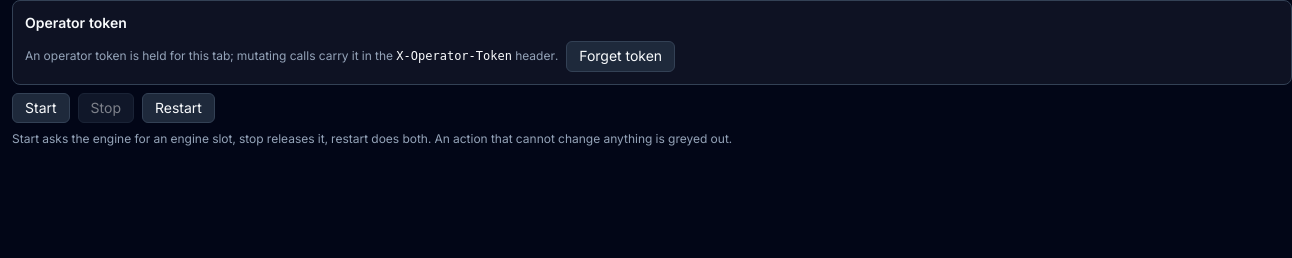
ProfileControls › surfaces a wrong token in the banner
The width and height of the screenshot is (1292, 258).
Click the button "Restart". click: (178, 108)
box: [142,93,215,123]
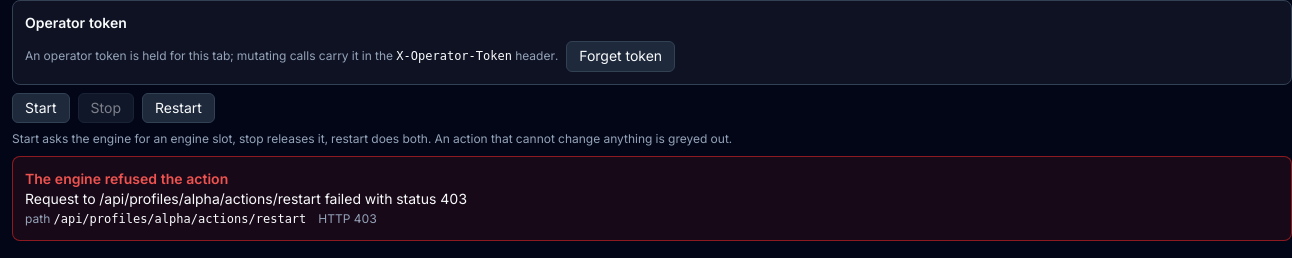
expect the text "HTTP 403" is shown: met, box [318,211,377,228]
expect the text "The engine refused the action" is shown: met, box [25,170,228,187]
